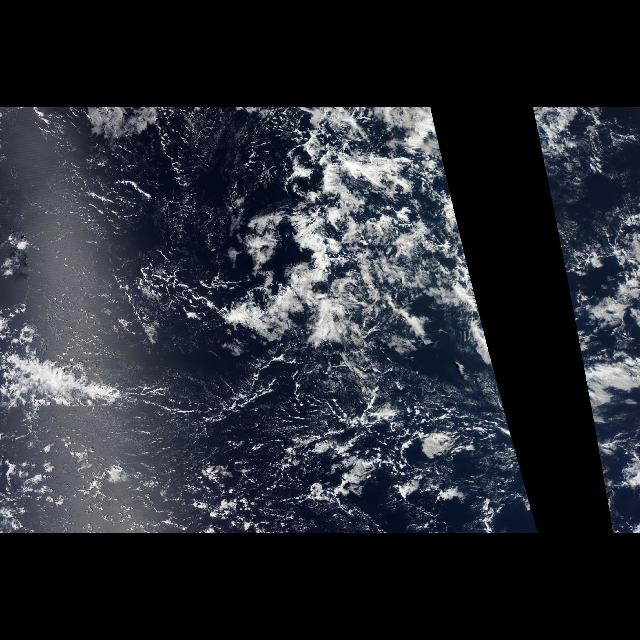Gravel: (203, 231, 501, 533), (102, 111, 280, 306)
Sugar: (13, 112, 304, 530)
